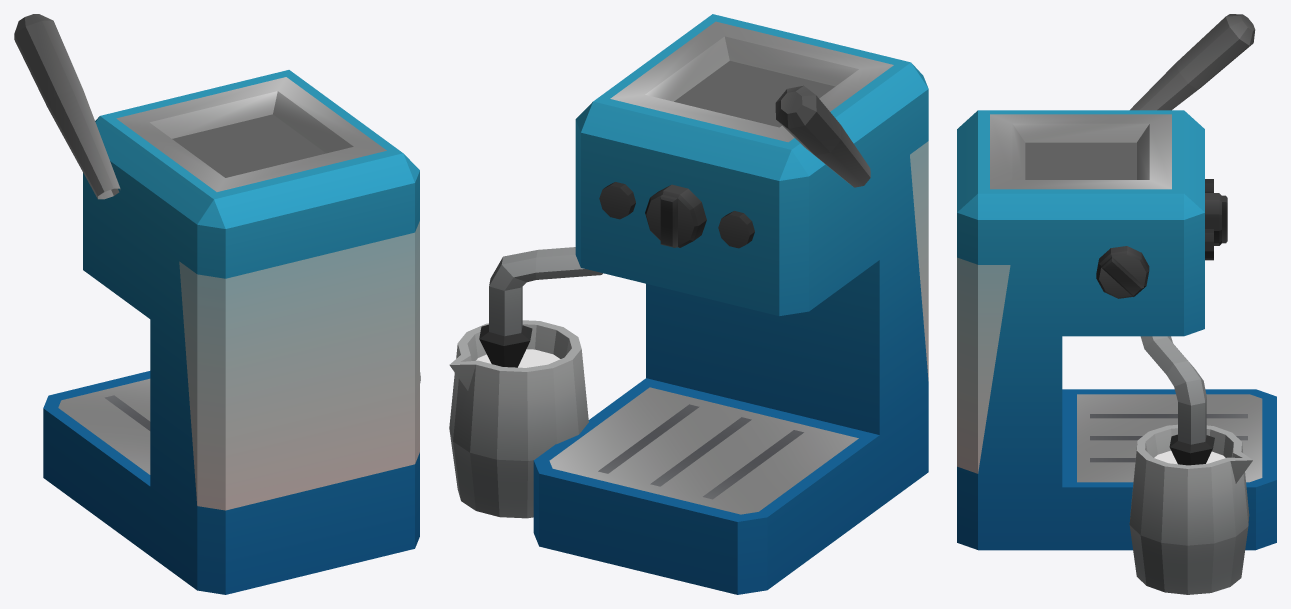
The model's file is Station Latte Machine.fbx.
3 views of the same model, side by side, from view 1: azimuth 30°, elevation 25°; view 2: azimuth 150°, elevation 25°; view 3: azimuth 270°, elevation 25° (orthographic). The views are drawn at different scales.
Parts seen in each view (by area): view 1: Station_Latte_Machine; view 2: Station_Latte_Machine; view 3: Station_Latte_Machine.
Part boxes in pixels (bbox=[...]): Station_Latte_Machine: bbox=[14, 14, 420, 594]; Station_Latte_Machine: bbox=[449, 14, 928, 594]; Station_Latte_Machine: bbox=[957, 14, 1276, 594].
Size of the model in its own units: 220 by 269 by 182.
